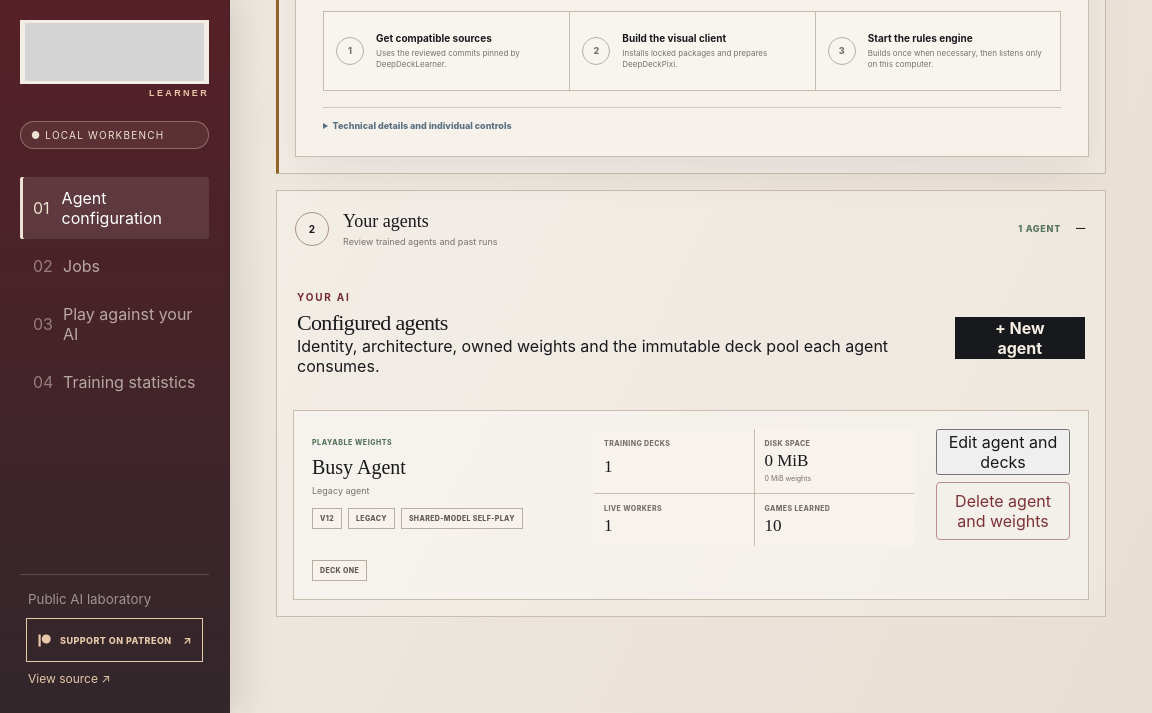
Scenario: guided onboarding › opens the agent editor when a service is active and can stop it before saving
(page scrolled)
Click the button "Edit agent and decks" at {"x": 1003, "y": 452}, box 936,429 -> 1070,475
(page scrolled)
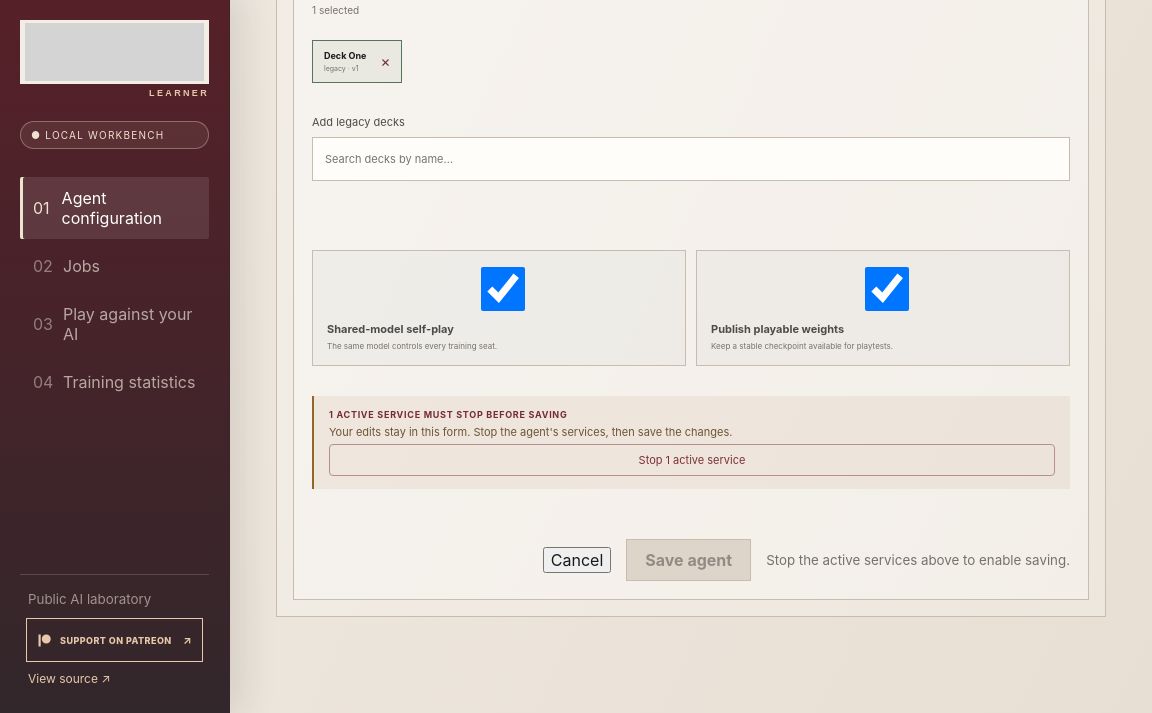
Result: the button "Save agent" is disabled at 626,539 -> 751,581
Click the button "Stop 1 active service" at {"x": 692, "y": 460}, box 329,444 -> 1055,476
(page scrolled)
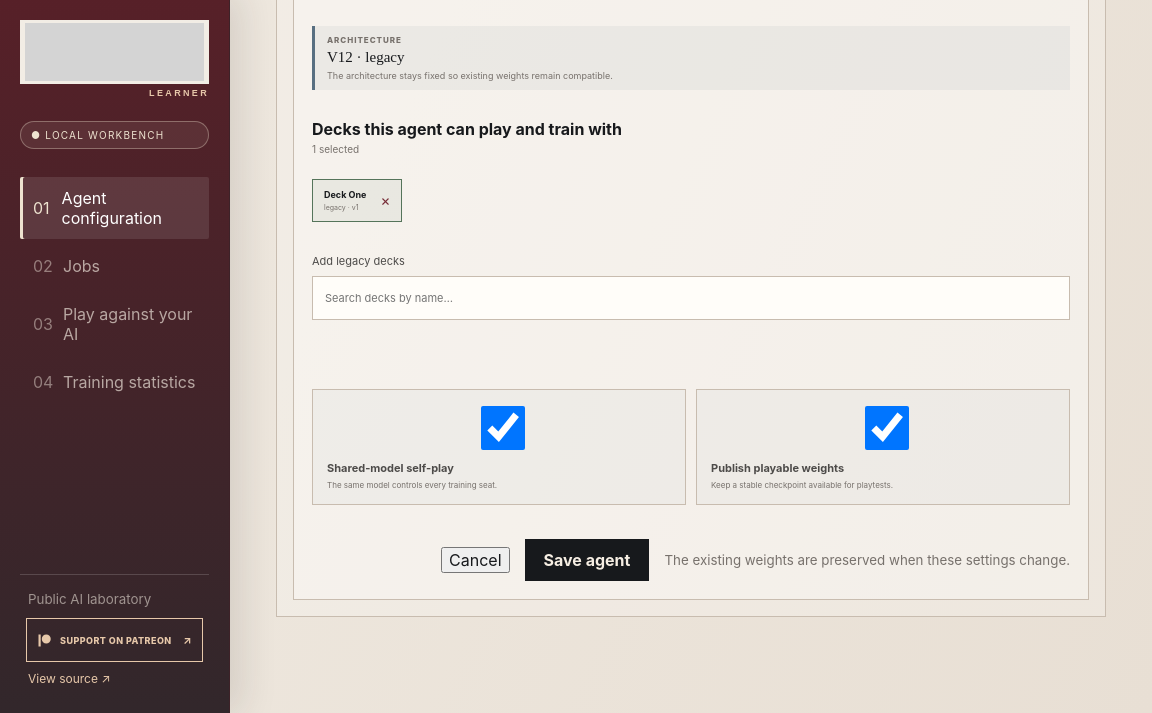
Result: the button "Save agent" is enabled at 524,539 -> 649,581
